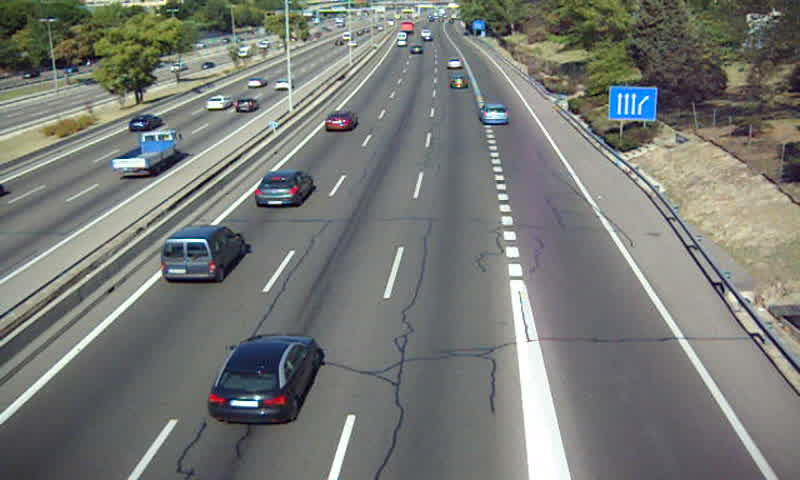car: (206, 334, 320, 421), (254, 172, 314, 206), (324, 111, 357, 132), (478, 102, 509, 124), (448, 75, 468, 90), (446, 57, 464, 68)
van: (159, 227, 244, 281)
